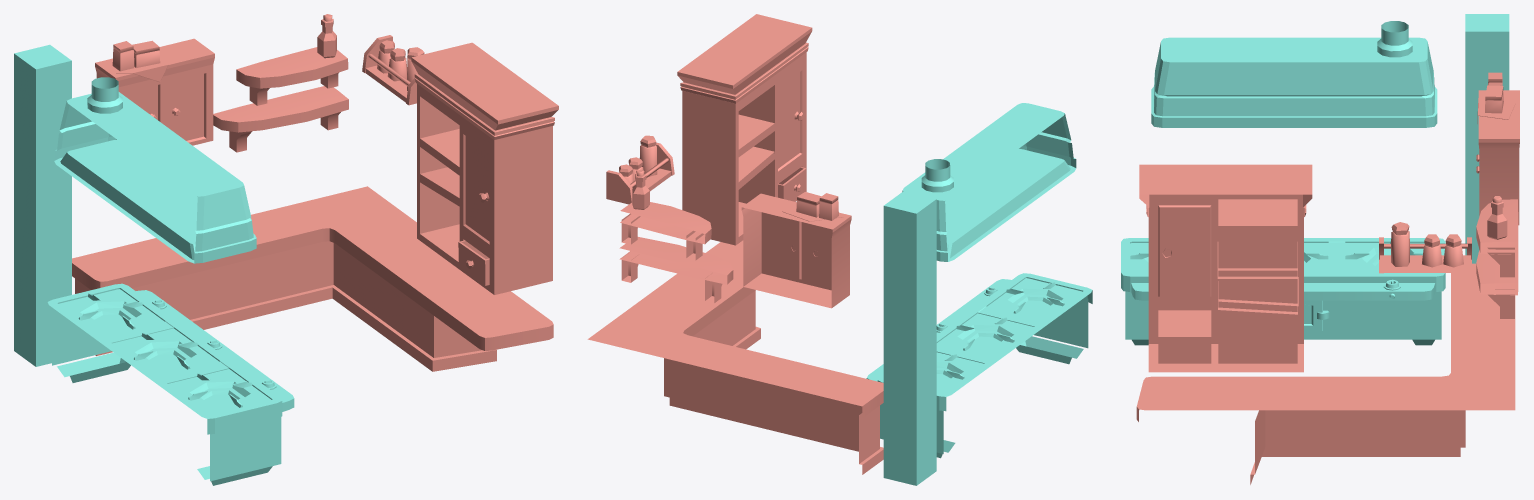
File: kitchen.fbx
3 views of the same model, side by side, from view 1: azimuth 30°, elevation 25°; view 2: azimuth 150°, elevation 25°; view 3: azimuth 270°, elevation 25° (orthographic). The views are drawn at different scales.
Parts seen in each view (by area): view 1: Box033, Object019, Box029, Box031, Box032, Box021, Box038, Box044, Box039, Box035, Cylinder144, Box050 (+1 smaller); view 2: Box033, Box021, Box031, Box029, Object019, Box032, Box038, Box044, Box039, Box035, Cylinder144, Cylinder143; view 3: Box033, Box031, Box029, Object019, Box032, Box021, Box038, Box039, Box044, Box035, Cylinder143, Cylinder144 (+4 smaller).
Boxes of the visible parts, bbox=[...] form: Box033: bbox=[411, 42, 558, 294]; Object019: bbox=[47, 283, 294, 485]; Box029: bbox=[72, 186, 553, 350]; Box031: bbox=[54, 77, 256, 263]; Box032: bbox=[75, 241, 496, 371]; Box021: bbox=[14, 44, 71, 366]; Box038: bbox=[95, 38, 214, 145]; Box044: bbox=[213, 86, 348, 152]; Box039: bbox=[236, 47, 348, 105]; Box035: bbox=[362, 35, 416, 105]; Cylinder144: bbox=[317, 14, 336, 58]; Box050: bbox=[132, 40, 160, 67]; Box033: bbox=[677, 14, 812, 245]; Box021: bbox=[883, 191, 936, 485]; Box031: bbox=[902, 103, 1076, 261]; Box029: bbox=[587, 240, 883, 417]; Object019: bbox=[866, 273, 1092, 458]; Box032: bbox=[664, 290, 883, 474]; Box038: bbox=[741, 193, 851, 308]; Box044: bbox=[619, 237, 733, 303]; Box039: bbox=[620, 202, 711, 260]; Box035: bbox=[606, 142, 674, 204]; Cylinder144: bbox=[632, 169, 649, 209]; Cylinder143: bbox=[639, 135, 657, 176]; Box033: bbox=[1139, 164, 1312, 372]; Box031: bbox=[1151, 21, 1437, 127]; Box029: bbox=[1136, 263, 1515, 421]; Object019: bbox=[1121, 238, 1445, 345]; Box032: bbox=[1250, 410, 1465, 484]; Box021: bbox=[1465, 14, 1509, 263]; Box038: bbox=[1478, 90, 1519, 225]; Box039: bbox=[1476, 199, 1518, 277]; Box044: bbox=[1476, 250, 1518, 318]; Box035: bbox=[1379, 237, 1471, 273]; Cylinder143: bbox=[1391, 222, 1409, 266]; Cylinder144: bbox=[1487, 196, 1507, 239].
Size of the model in its own units: 383 by 307 by 366.
